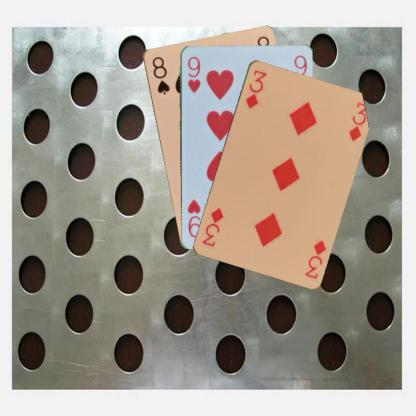3d: (302, 237, 328, 280), (243, 67, 268, 110)
8s: (149, 54, 171, 95)
9h: (184, 54, 202, 94)
